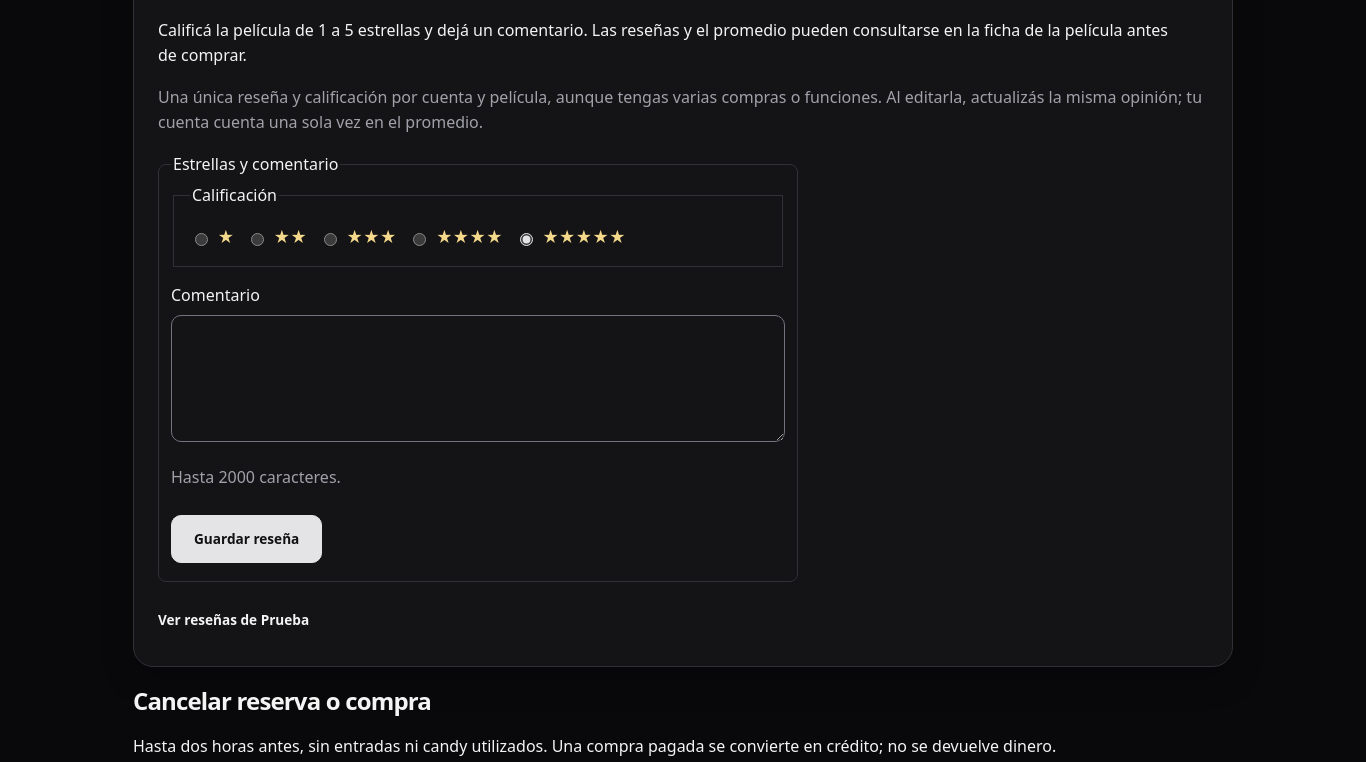
Mi reseña visible y pago simulado coherente › guarda el comentario usando el token de la compra y conserva el formulario
(page scrolled)
Type "Me gustó la película." into the text box with id "resena-texto".
click(478, 378); type("Me gustó la película.")  # box [171, 315, 785, 442]
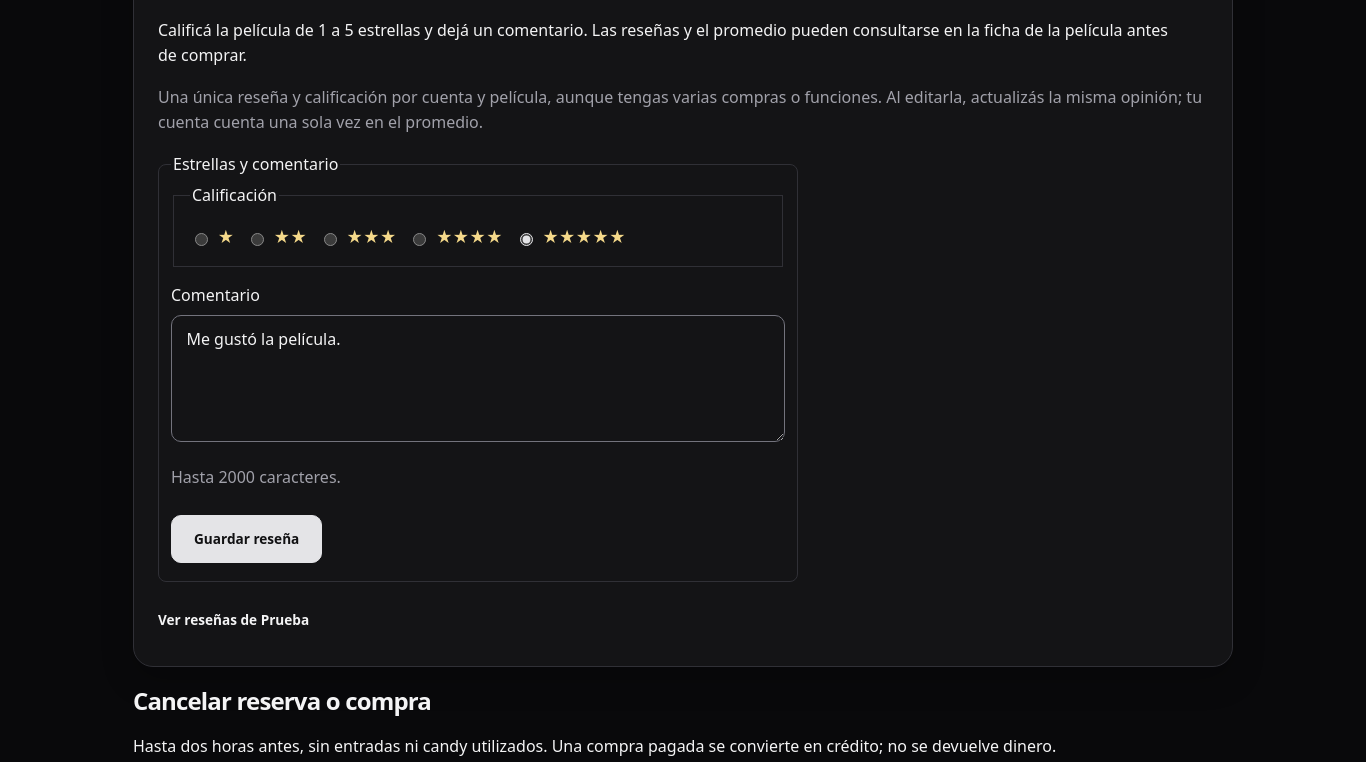
Submit the form, box [158, 152, 798, 582]
(page scrolled)
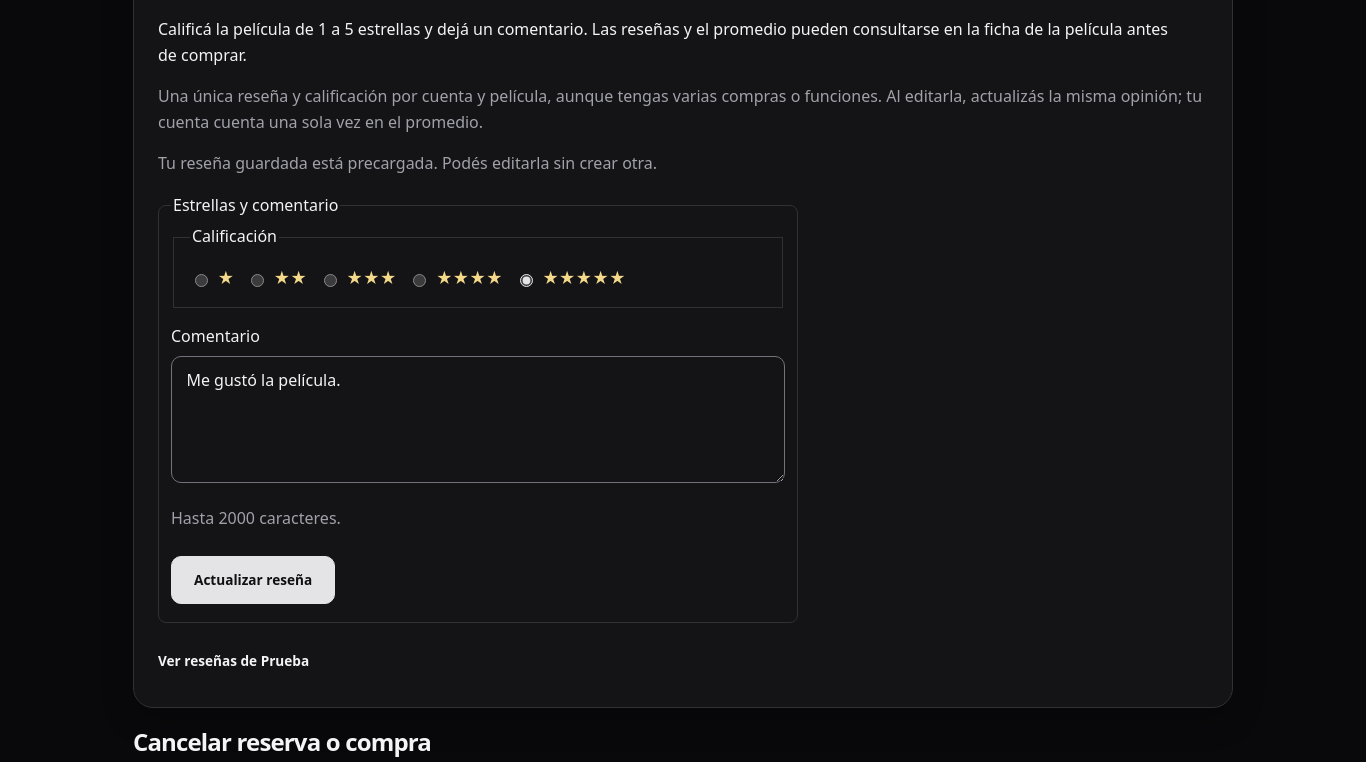
Check: the text "reseña guardada" is shown, box [158, 152, 657, 174]
